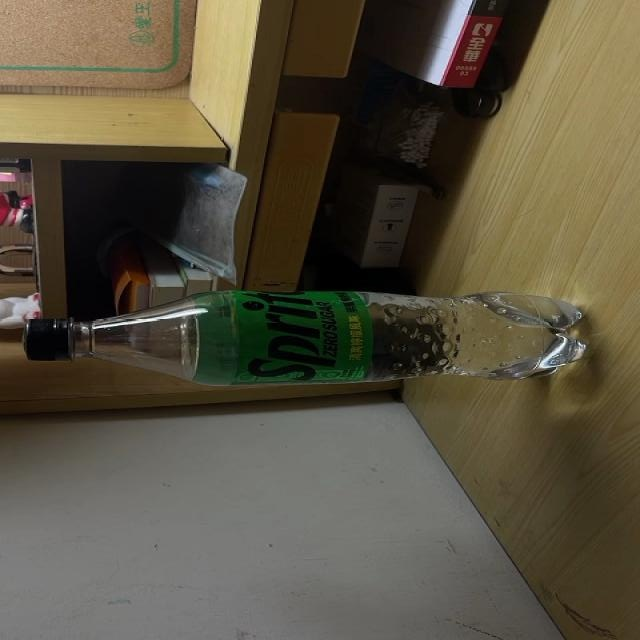Sprite: (27, 292, 586, 388)
